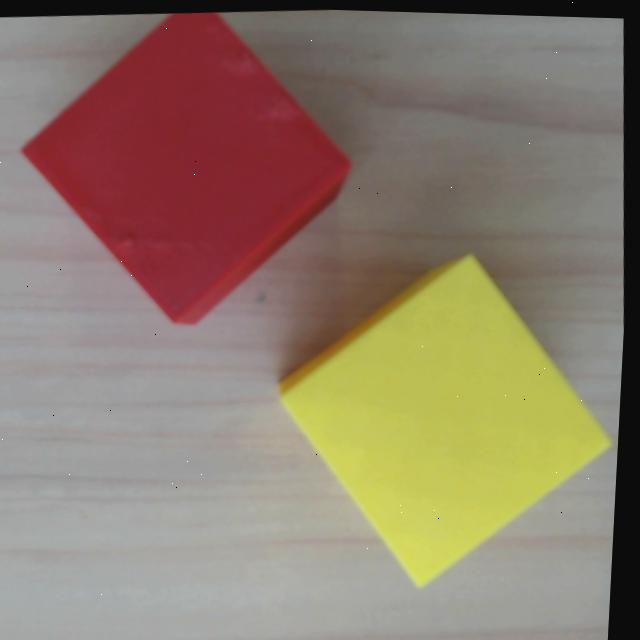Kubus-Kuning-505050: (269, 243, 614, 589)
